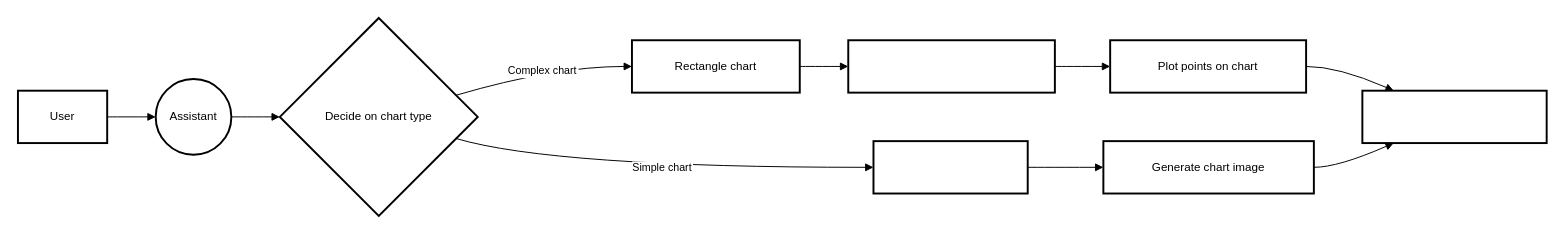
Image size: 1564x233. Some labels were removed from this diagram. The shapes that lost their labels are listed below. From the top down, each one's centre as x and y in pixels, then its label:
At point (951, 66): "Calculate data points".
At point (1454, 116): "Display final chart".
At point (950, 167): "Triangle chart".
